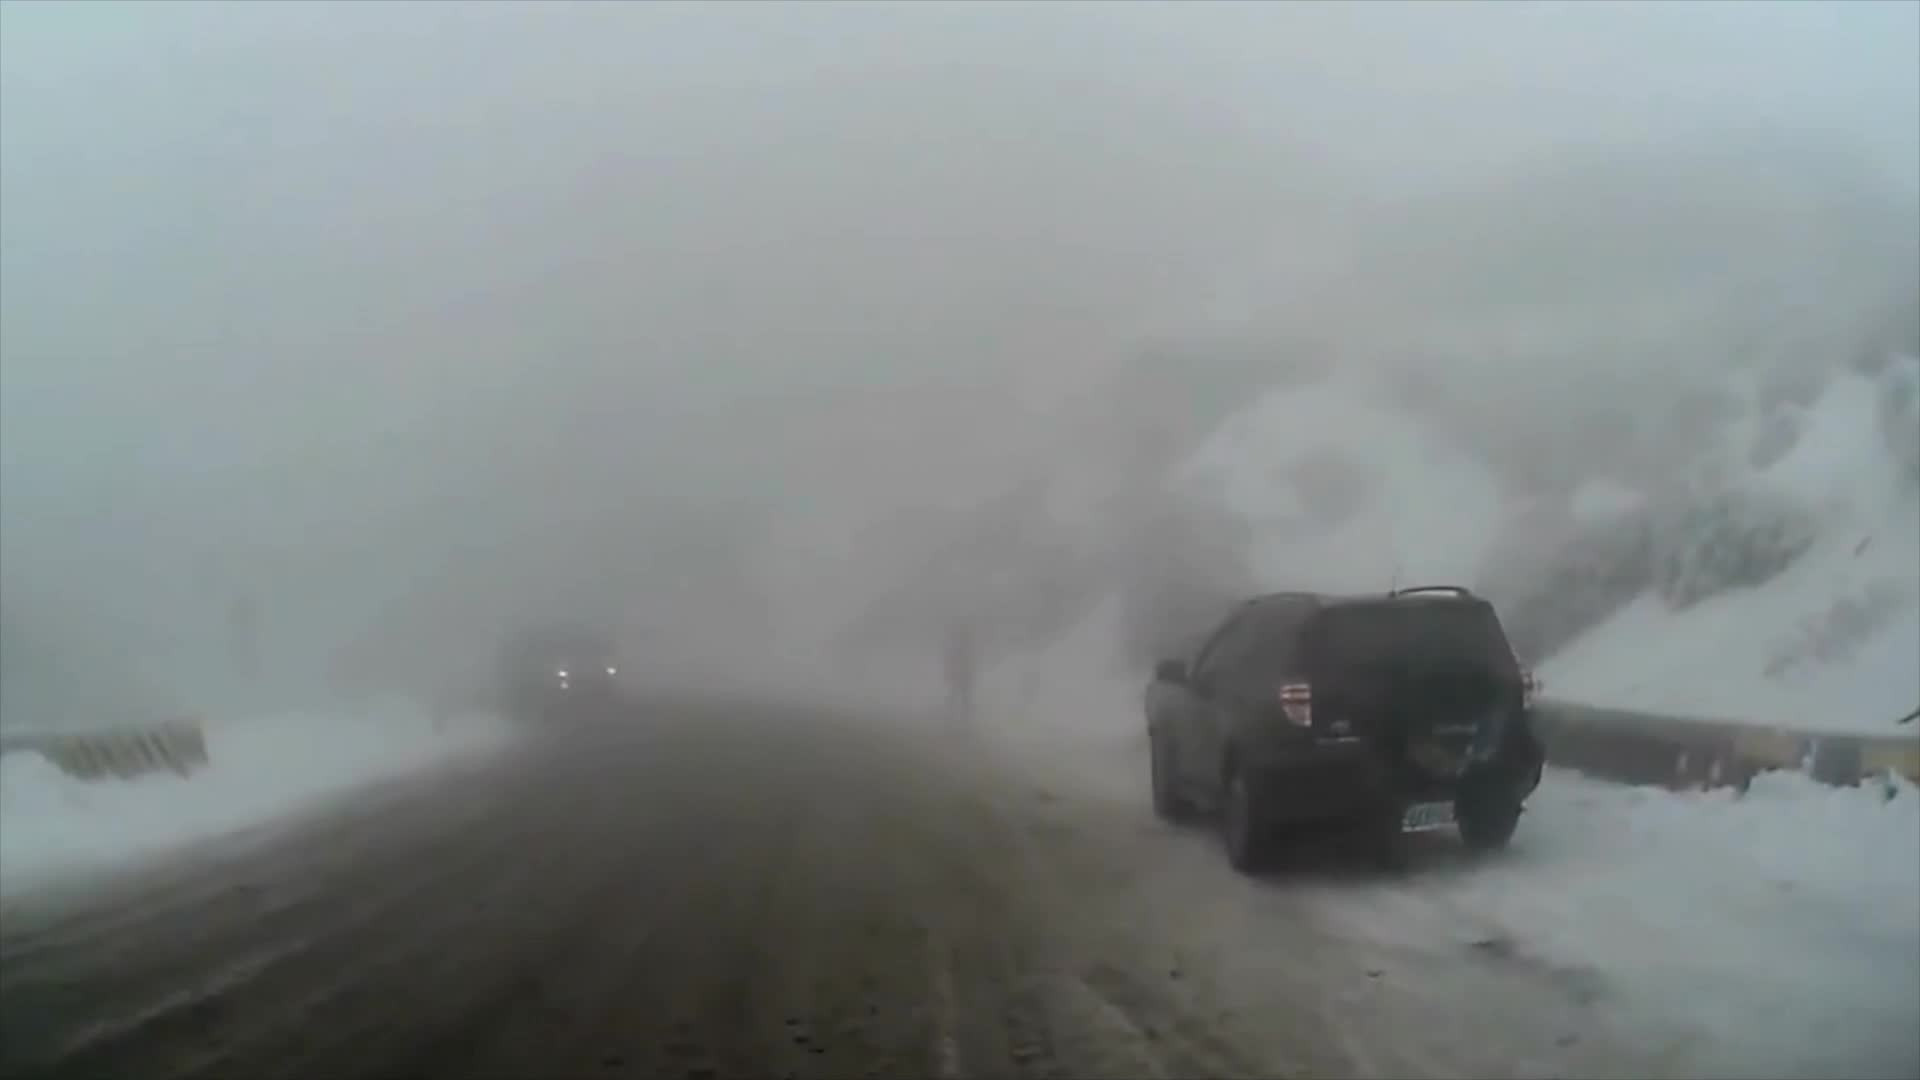vehicle: (1139, 582, 1542, 880)
